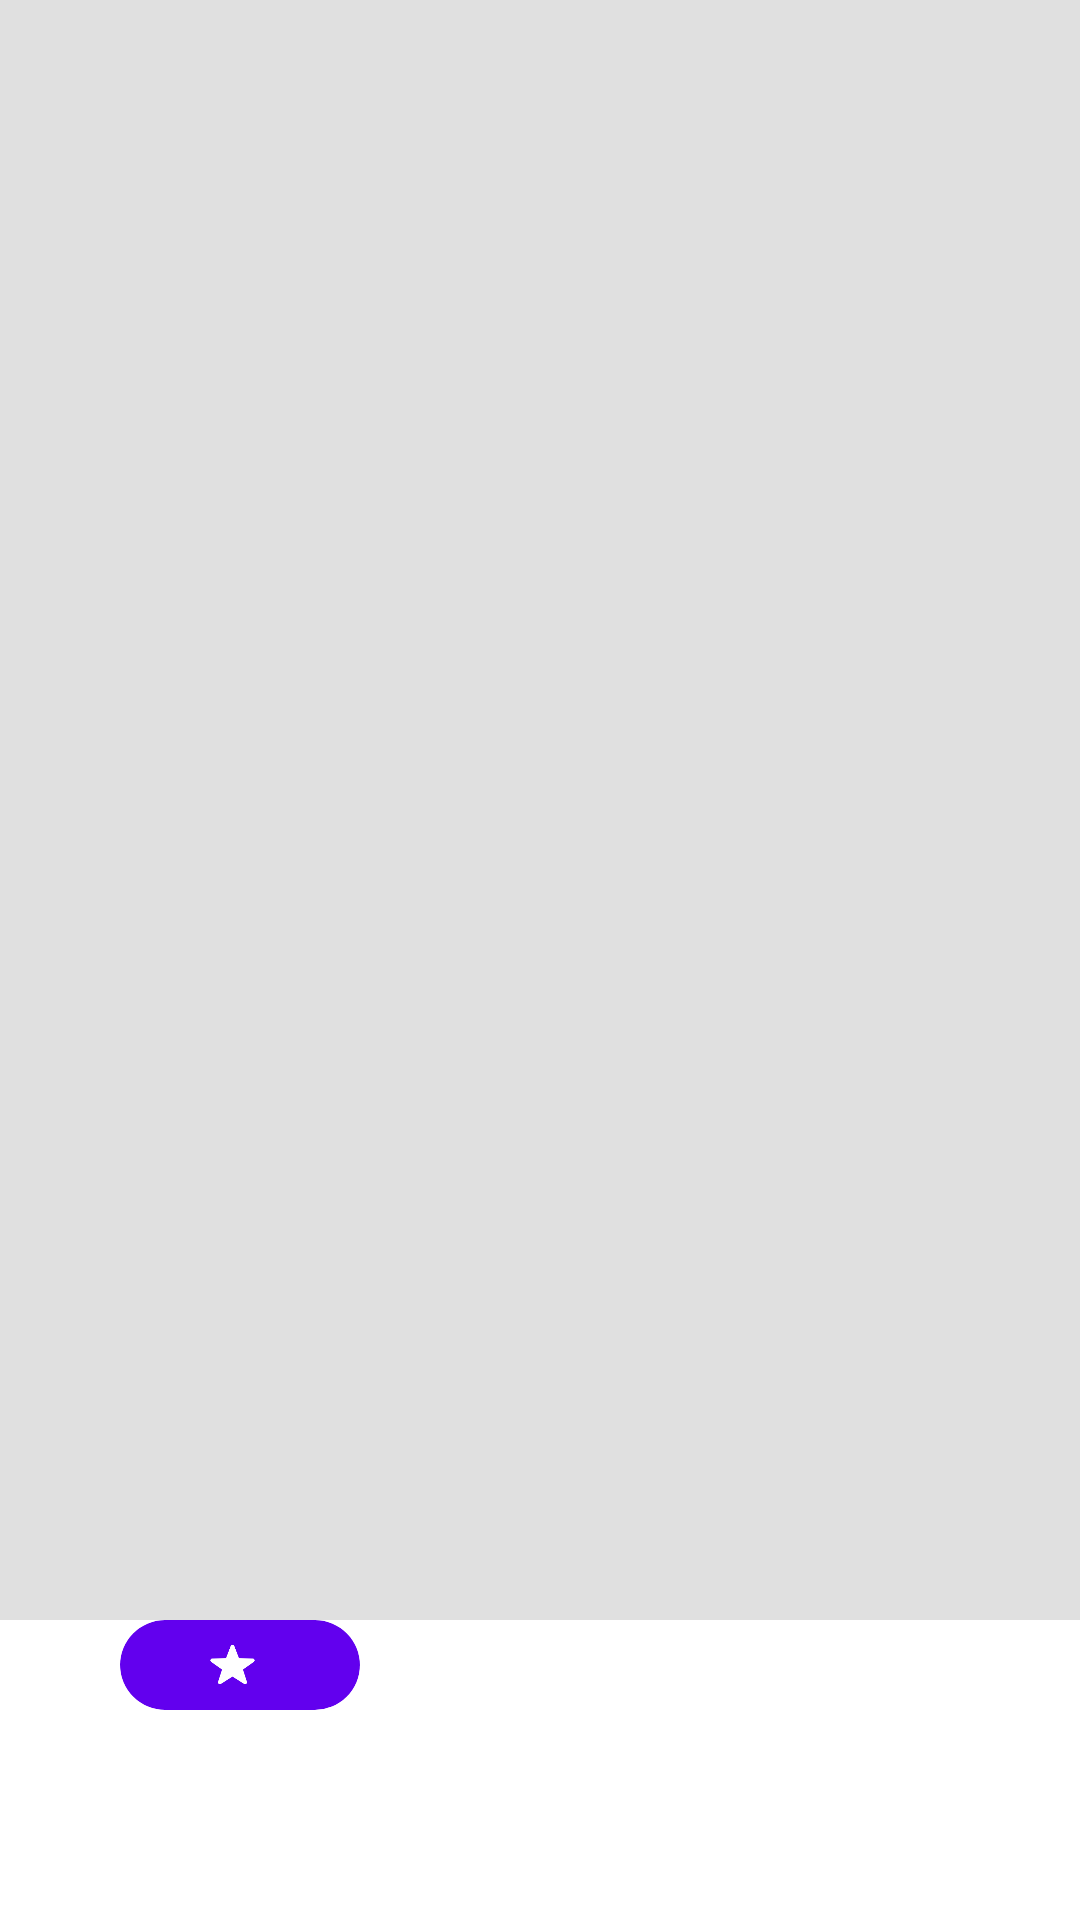

Screen size 1080*1920. Icon name, then its center in pixels as (x,y):
star: (232,1664)
